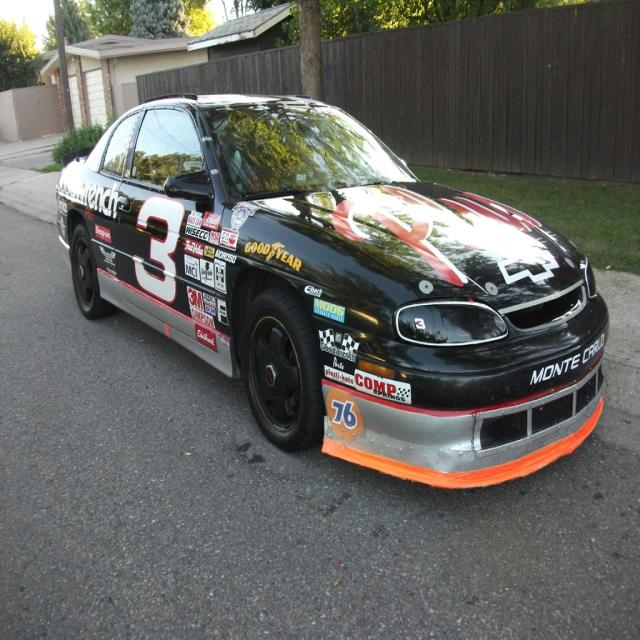car: (56, 88, 607, 480)
